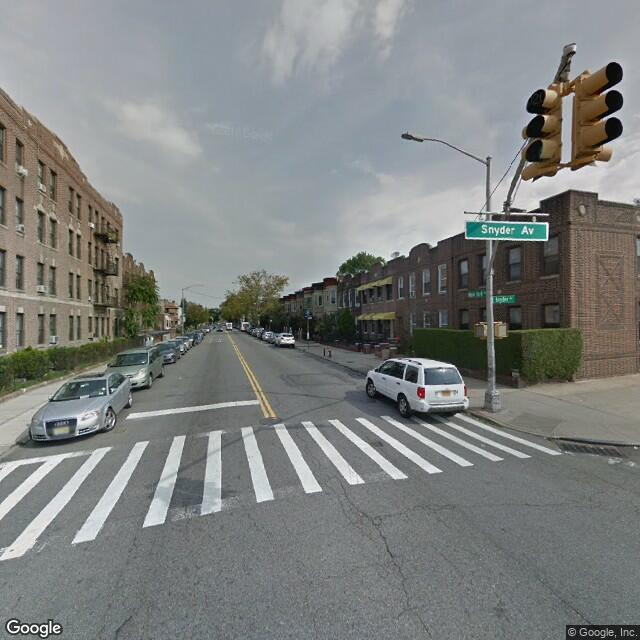litter: (634, 445, 637, 448)
